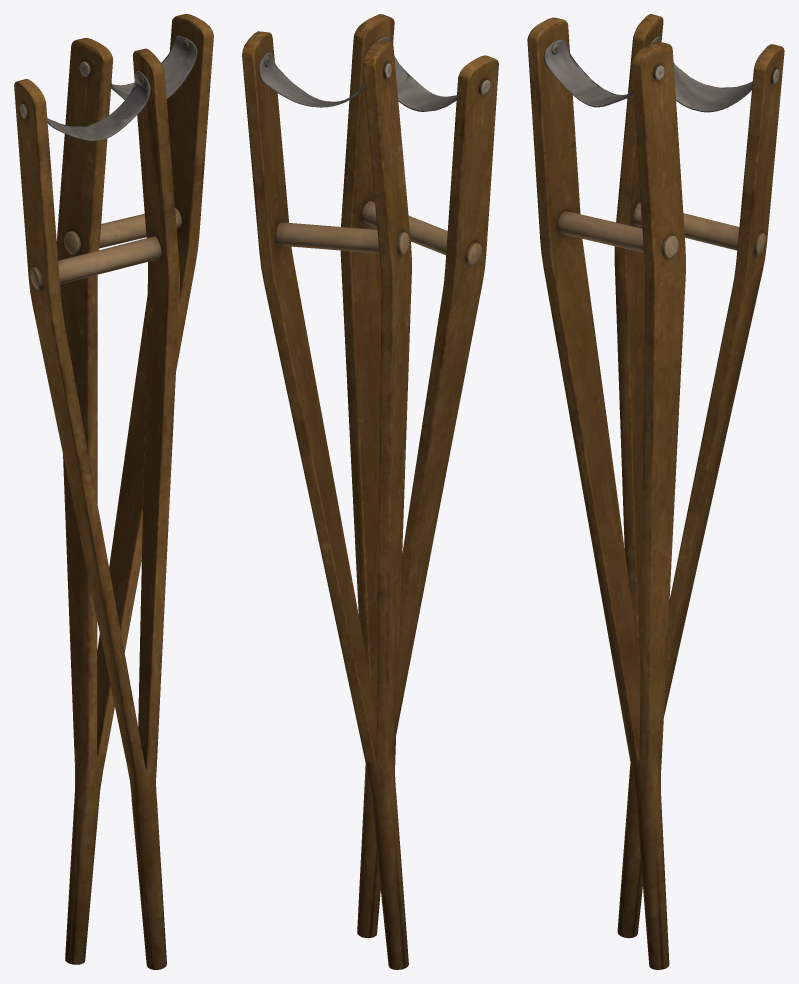
File: vintage_crutches_01.glb
The picture shows the model from 3 angles, left to right: view 1: azimuth 30°, elevation 25°; view 2: azimuth 150°, elevation 25°; view 3: azimuth 330°, elevation 25°; orthographic projection.
Parts seen in each view (by area): view 1: vintage_crutches_01_crutch01; view 2: vintage_crutches_01_crutch01; view 3: vintage_crutches_01_crutch01.
Part boxes in pixels (x1,y1,x2,y2): vintage_crutches_01_crutch01: (14,14,213,969); vintage_crutches_01_crutch01: (242,14,498,969); vintage_crutches_01_crutch01: (527,14,784,969).
Size of the model in its own units: 0.3837 by 1.6 by 0.2036.
Materials: 1 (1 with a texture image).
